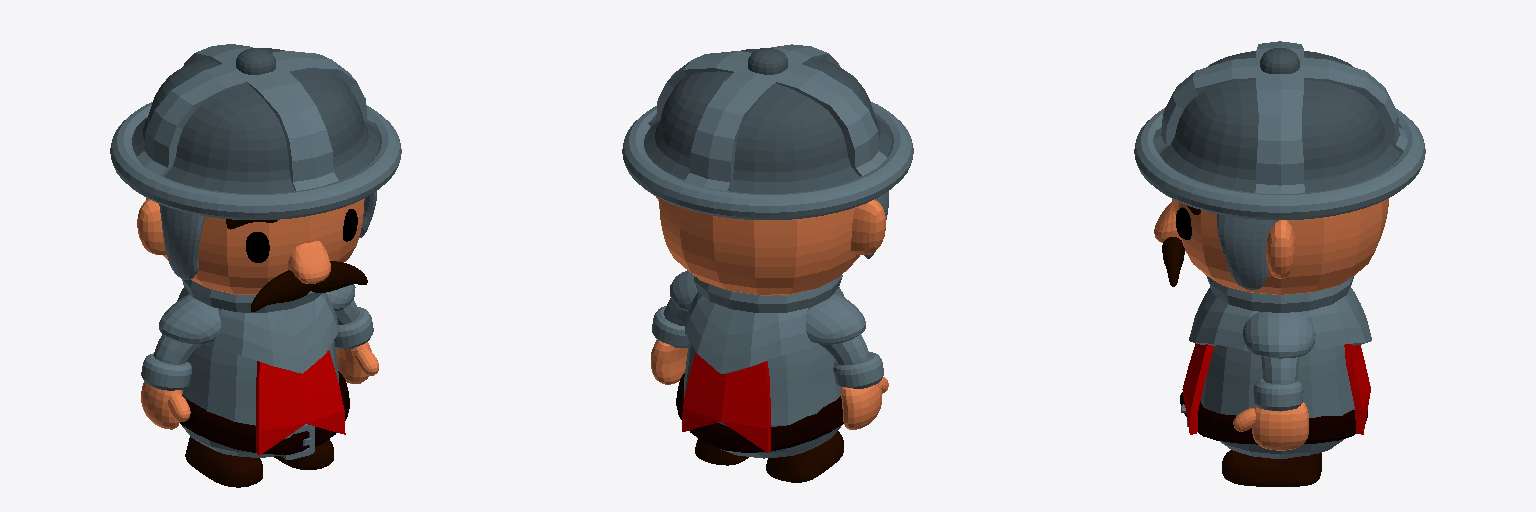
The model's file is Knight1final.obj.
The picture shows the model from 3 angles: view 1: azimuth 30°, elevation 25°; view 2: azimuth 150°, elevation 25°; view 3: azimuth 270°, elevation 25°; orthographic projection.
Parts seen in each view (by area): view 1: Knight1_Head, Knight1_Body, Knight1_Right_Arm, Knight1_Left_Arm, Knight1_Right_Foot, Knight1_Left_Foot; view 2: Knight1_Head, Knight1_Body, Knight1_Right_Arm, Knight1_Left_Arm, Knight1_Right_Foot, Knight1_Left_Foot; view 3: Knight1_Head, Knight1_Body, Knight1_Left_Arm, Knight1_Left_Foot.
Boxes of the visible parts, <box> form: Knight1_Head: <box>110,44,401,311</box>; Knight1_Body: <box>177,279,349,459</box>; Knight1_Right_Arm: <box>141,294,220,429</box>; Knight1_Left_Arm: <box>326,284,378,383</box>; Knight1_Right_Foot: <box>185,436,262,487</box>; Knight1_Left_Foot: <box>274,439,333,469</box>; Knight1_Head: <box>622,44,913,295</box>; Knight1_Body: <box>676,275,844,458</box>; Knight1_Right_Arm: <box>806,293,888,429</box>; Knight1_Left_Arm: <box>651,270,697,384</box>; Knight1_Right_Foot: <box>766,431,843,482</box>; Knight1_Left_Foot: <box>695,439,748,465</box>; Knight1_Head: <box>1134,41,1425,294</box>; Knight1_Body: <box>1180,275,1371,458</box>; Knight1_Left_Arm: <box>1233,312,1315,450</box>; Knight1_Left_Foot: <box>1222,450,1321,486</box>.
Size of the model in its own units: 1.94 by 3 by 1.94.